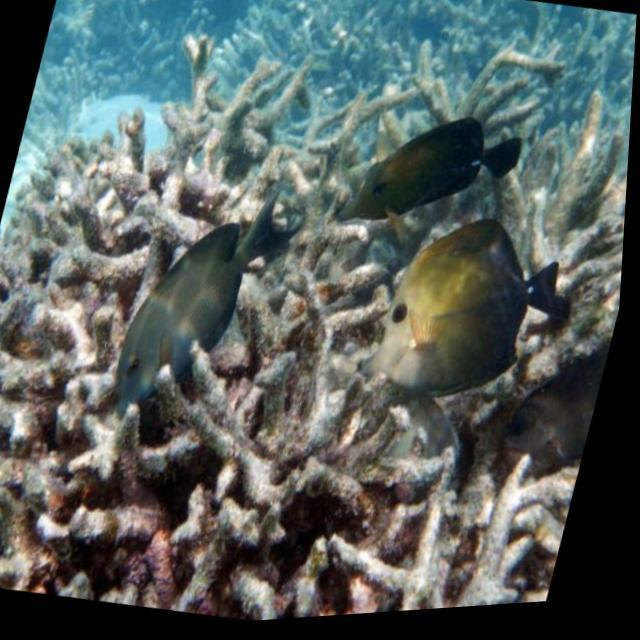Dead Coral: (0, 356, 519, 640), (24, 84, 202, 276)
